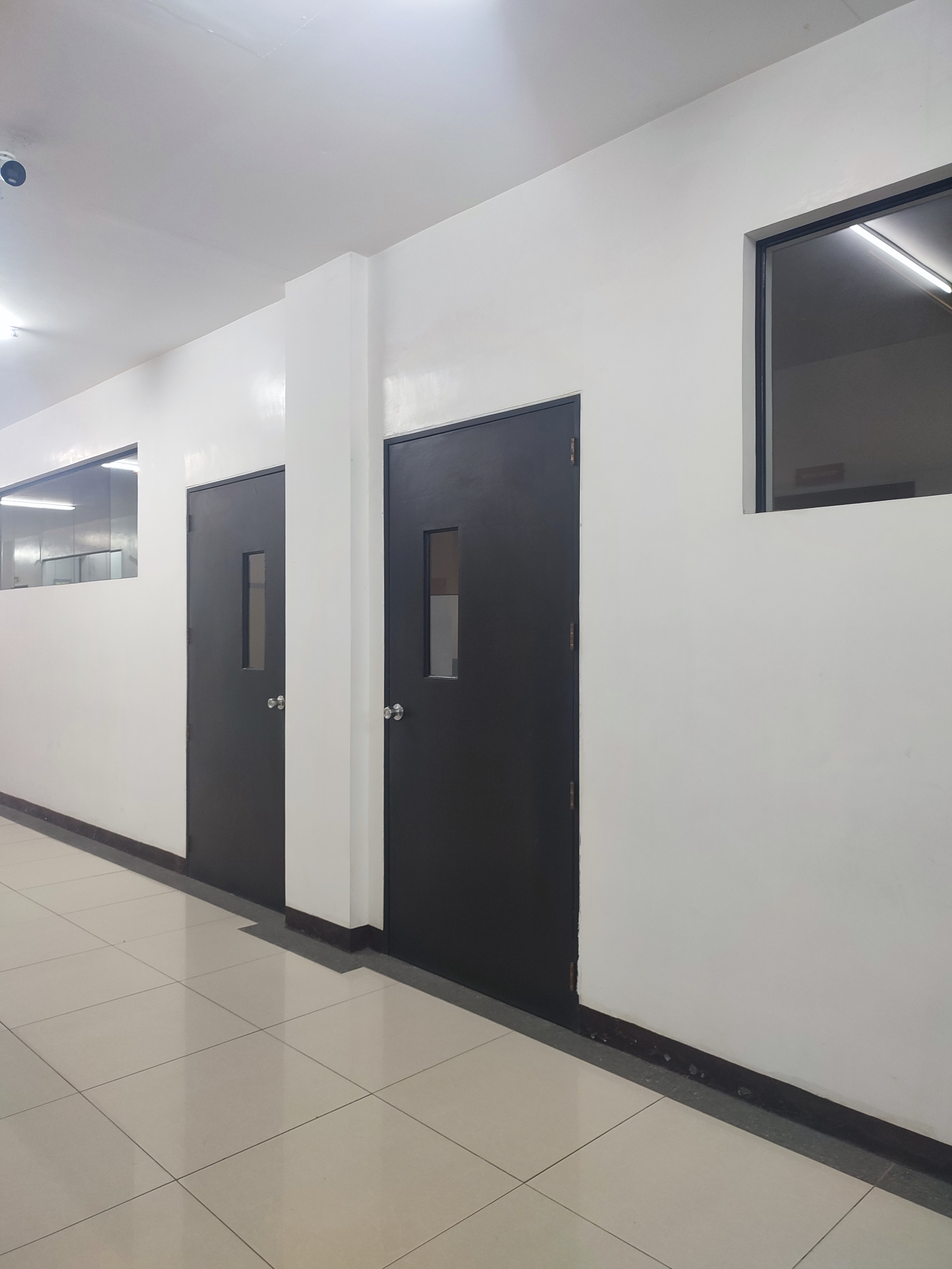door: (383, 398, 566, 1030), (184, 469, 286, 913)
